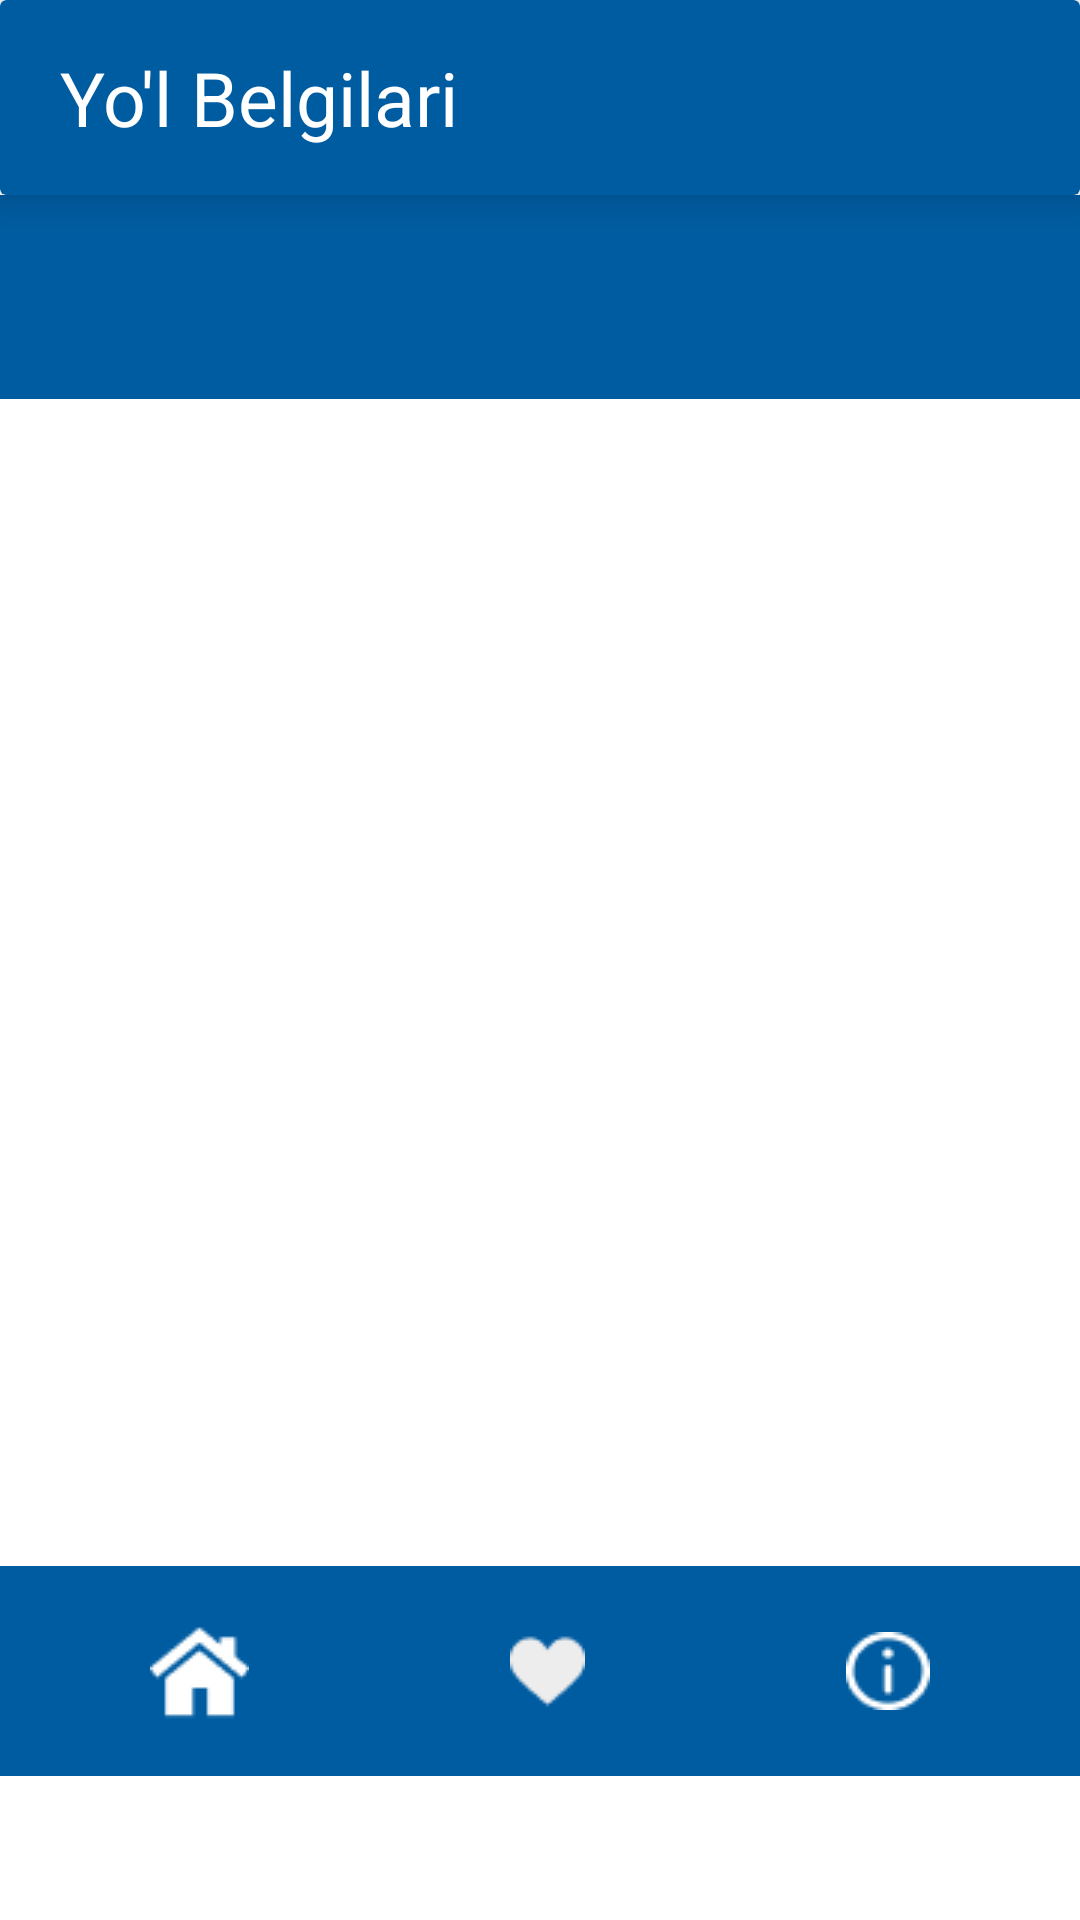

Named icons in this screenshot (1080w x 1920h) and their bounding boxes, region(x1, y1, x2, y2):
about: region(846, 1632, 930, 1710)
heart: region(510, 1636, 585, 1707)
home: region(150, 1627, 249, 1717)
